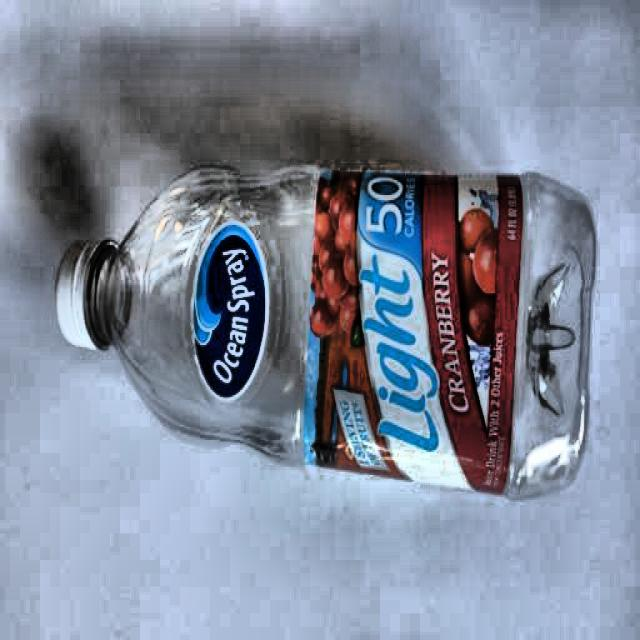plastic: (50, 164, 584, 491)
